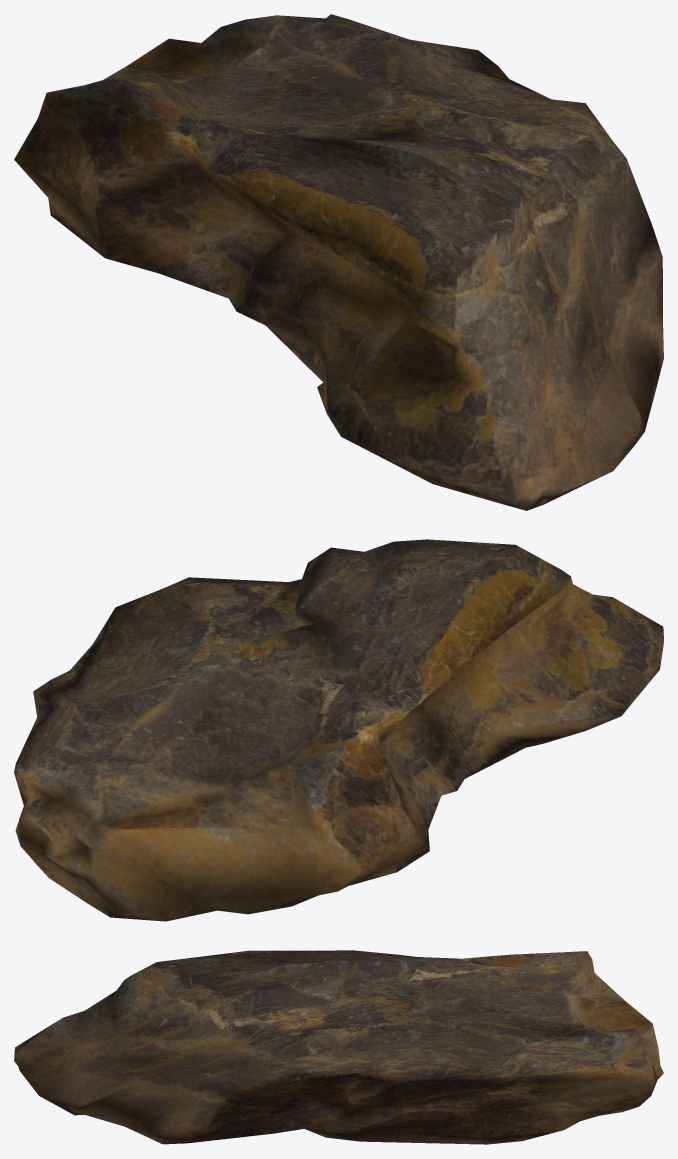
Rendered from rock_09-lod2.glb.
The picture shows the model from 3 angles, top to bottom: view 1: azimuth 30°, elevation 25°; view 2: azimuth 150°, elevation 25°; view 3: azimuth 270°, elevation 25°; orthographic projection. The views are drawn at different scales.
Visible parts, largest first — view 1: rock_09_LOD0; view 2: rock_09_LOD0; view 3: rock_09_LOD0.
Boxes of the visible parts, x1=… form: rock_09_LOD0: x1=14, y1=14, x2=663, y2=510; rock_09_LOD0: x1=14, y1=539, x2=663, y2=921; rock_09_LOD0: x1=14, y1=950, x2=663, y2=1144.
Bounding box in the file's own units: 0.0738 × 0.0325 × 0.1442.
1 material, 1 textured.
